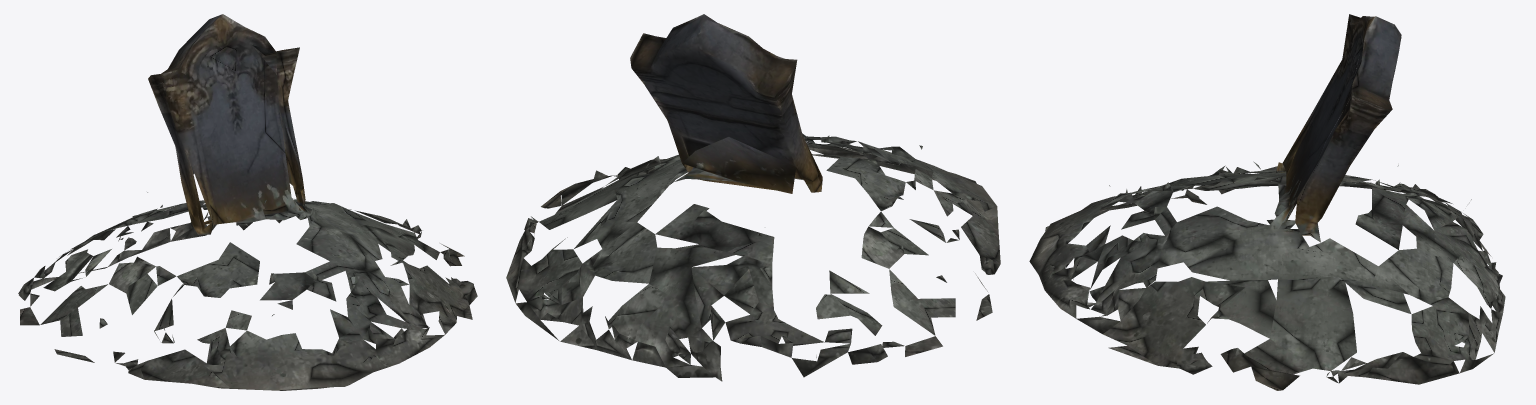
Rendered from haunted-hill-2.glb.
3 renders of one model, left to right at view 1: azimuth 30°, elevation 25°; view 2: azimuth 150°, elevation 25°; view 3: azimuth 270°, elevation 25°, orthographic. The views are drawn at different scales.
Parts seen in each view (by area): view 1: geometry_0; view 2: geometry_0; view 3: geometry_0.
Part boxes in pixels (bbox=[...]): geometry_0: bbox=[18, 14, 477, 390]; geometry_0: bbox=[506, 14, 1000, 381]; geometry_0: bbox=[1029, 14, 1505, 390].
Bounding box in the file's own units: 0.9456 × 0.6306 × 0.9212.
Materials: 1 (1 with a texture image).
